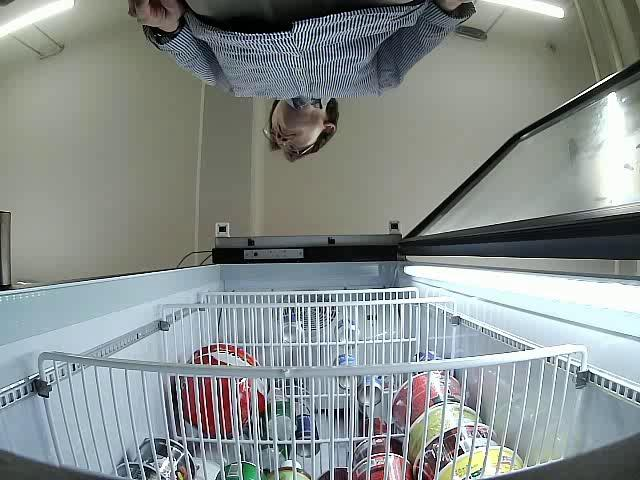00_hand: (128, 0, 189, 39)
